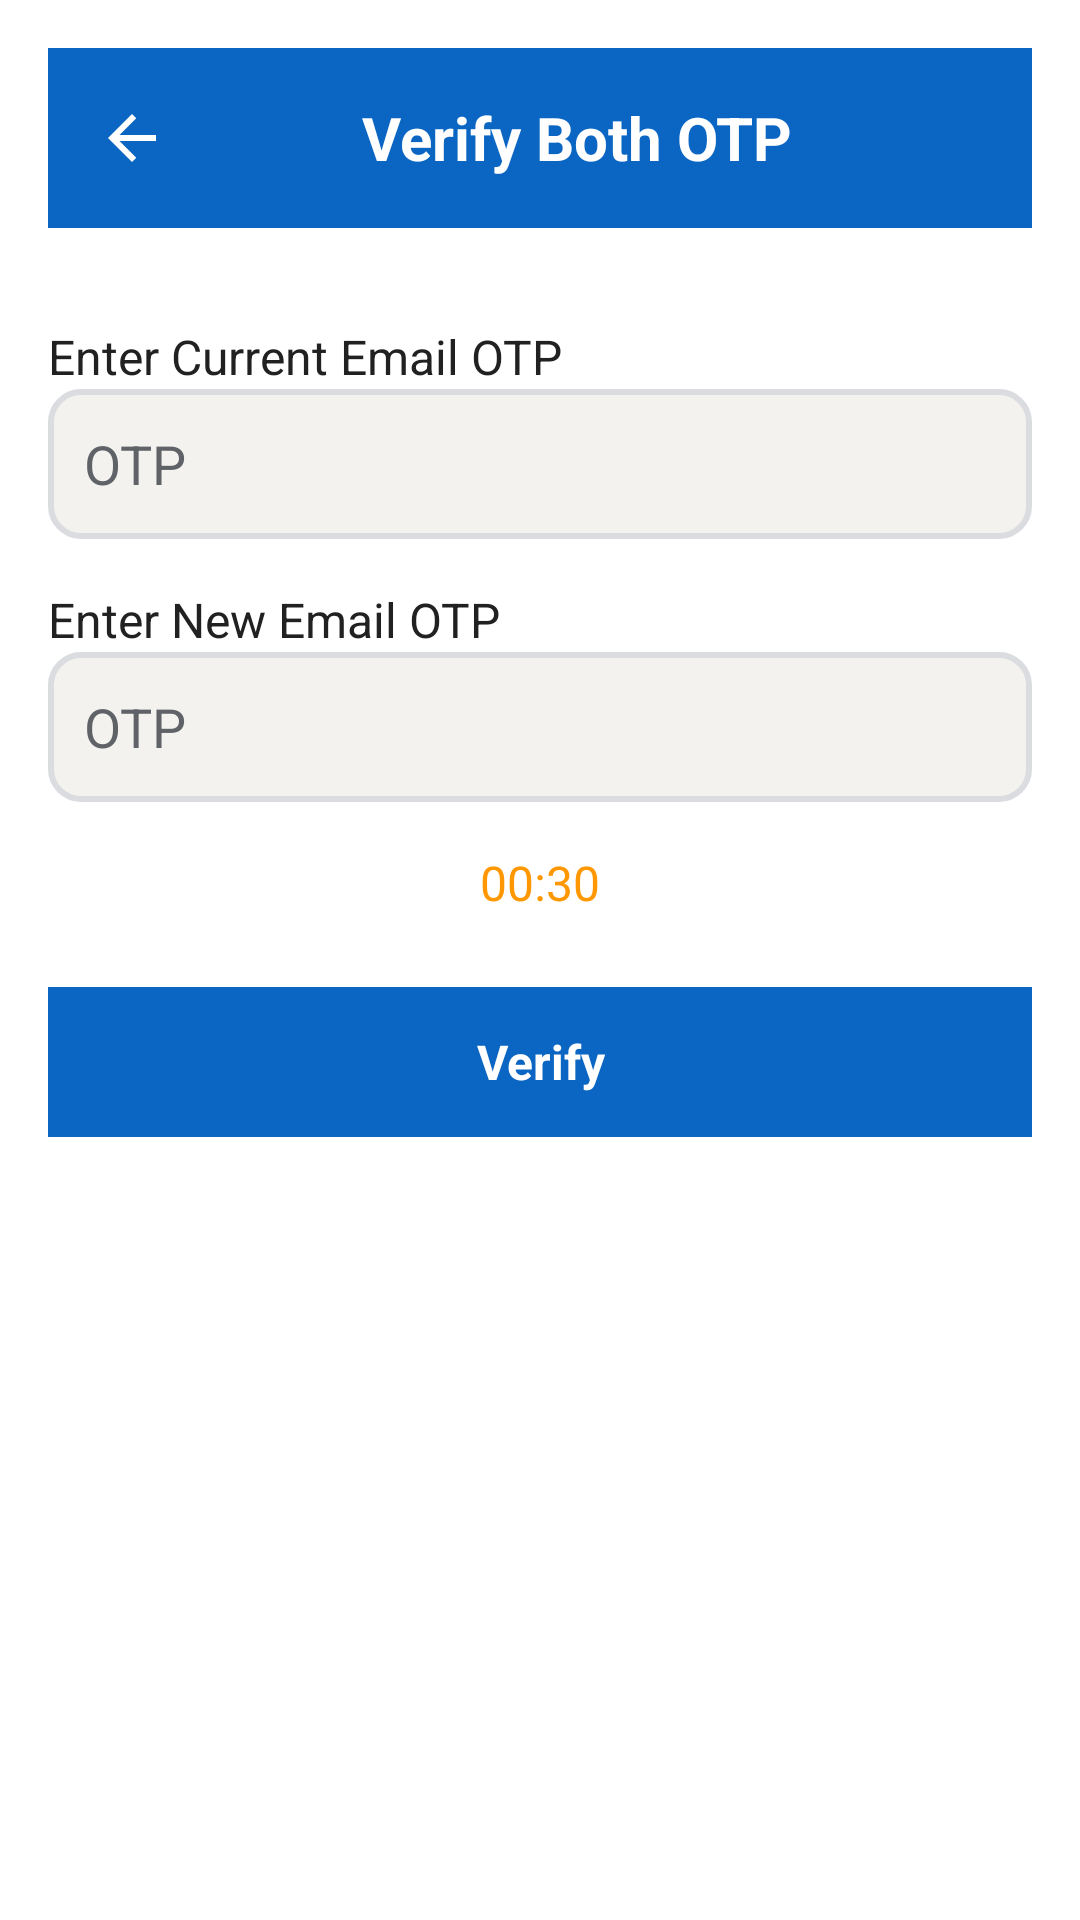

Where to tap for icons on this 1080 x 1920 app screen, as (x,y):
Back: (132,138)
